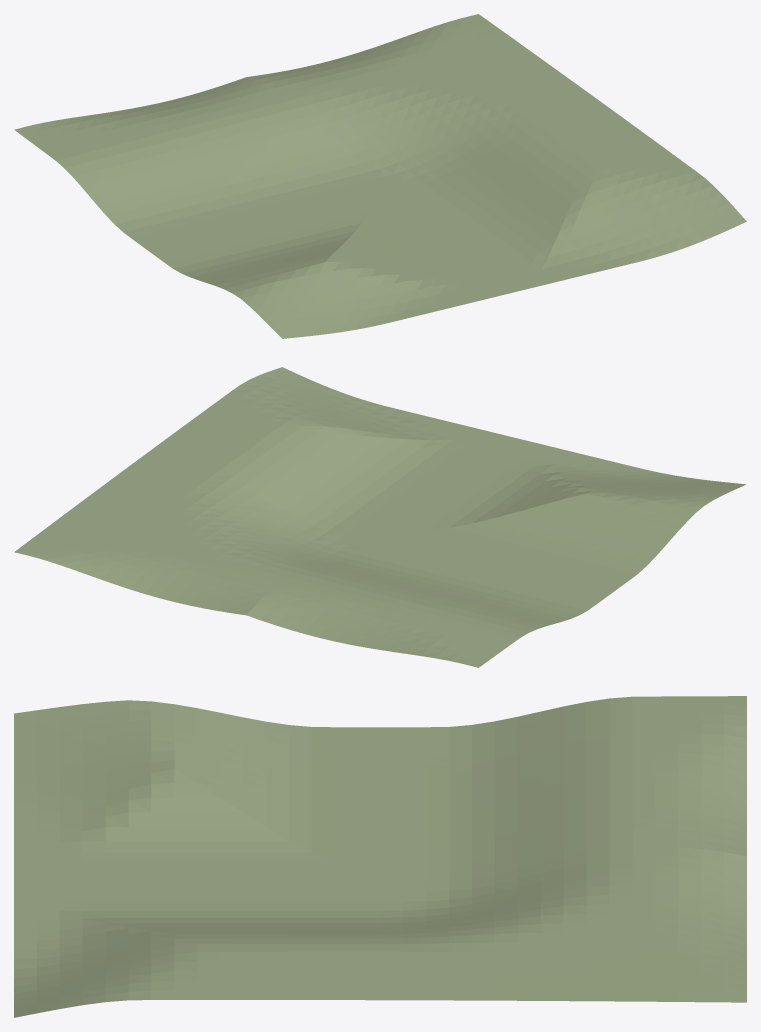
Rendered from gardens-6-1.glb.
3 views of the same model, one above another, from view 1: azimuth 30°, elevation 25°; view 2: azimuth 150°, elevation 25°; view 3: azimuth 270°, elevation 25° (orthographic). The views are drawn at different scales.
Parts seen in each view (by area): view 1: gardens-6-1; view 2: gardens-6-1; view 3: gardens-6-1.
Boxes of the visible parts, bbox=[...] form: gardens-6-1: bbox=[14, 14, 746, 338]; gardens-6-1: bbox=[14, 367, 746, 667]; gardens-6-1: bbox=[14, 696, 746, 1017].
Bounding box in the file's own units: 256 × 14.29 × 256.
